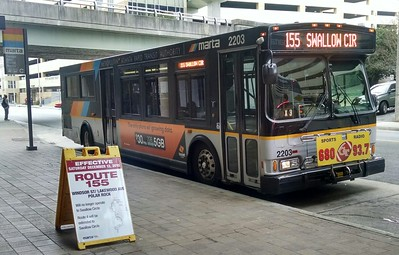bus: (60, 21, 384, 195)
